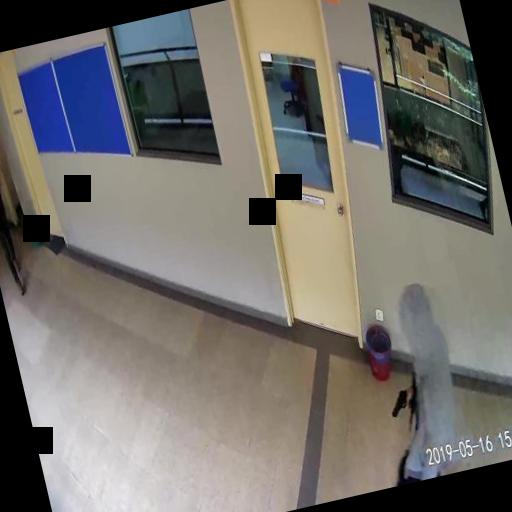Handgun: (386, 386, 415, 418)
